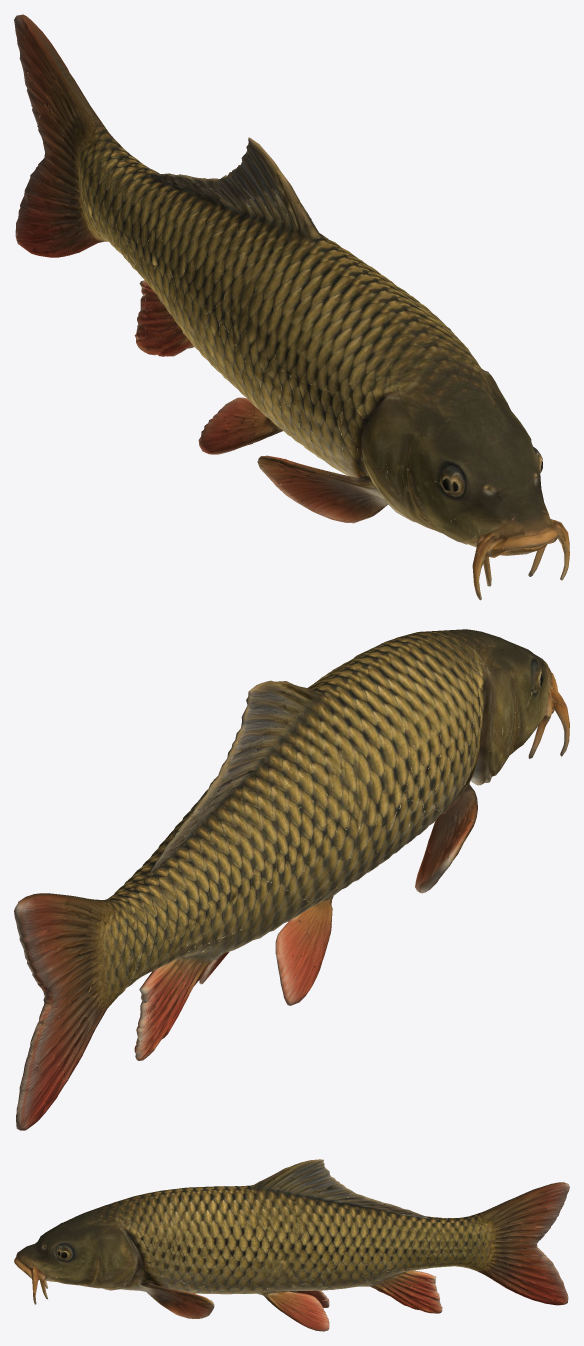
File: sazan.glb
3 views of the same model, one above another, from view 1: azimuth 30°, elevation 25°; view 2: azimuth 150°, elevation 25°; view 3: azimuth 270°, elevation 25° (orthographic). The views are drawn at different scales.
Parts seen in each view (by area): view 1: Mesh_0; view 2: Mesh_0; view 3: Mesh_0.
Boxes of the visible parts, left/top/right/bottom form: Mesh_0: left=14, top=14, right=569, bottom=600; Mesh_0: left=14, top=629, right=569, bottom=1130; Mesh_0: left=14, top=1159, right=569, bottom=1331.
Size of the model in its own units: 0.4139 by 0.605 by 1.9.
Materials: 1 (1 with a texture image).
